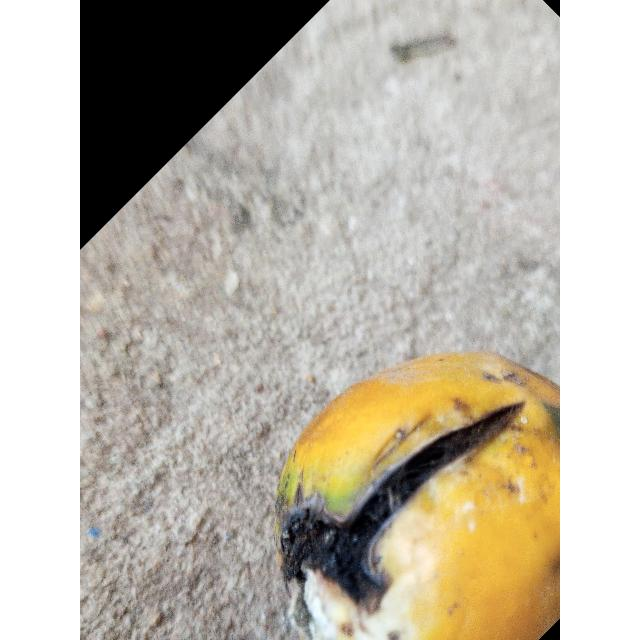damaged: (276, 352, 560, 640)
